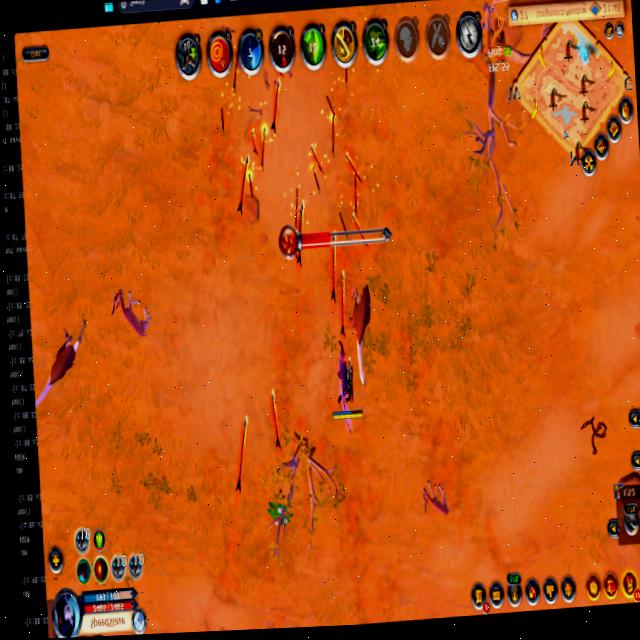hide: (266, 493, 291, 530)
ore: (32, 318, 92, 408), (342, 274, 382, 391), (108, 282, 153, 345), (418, 474, 452, 523)
red: (328, 345, 363, 428)
